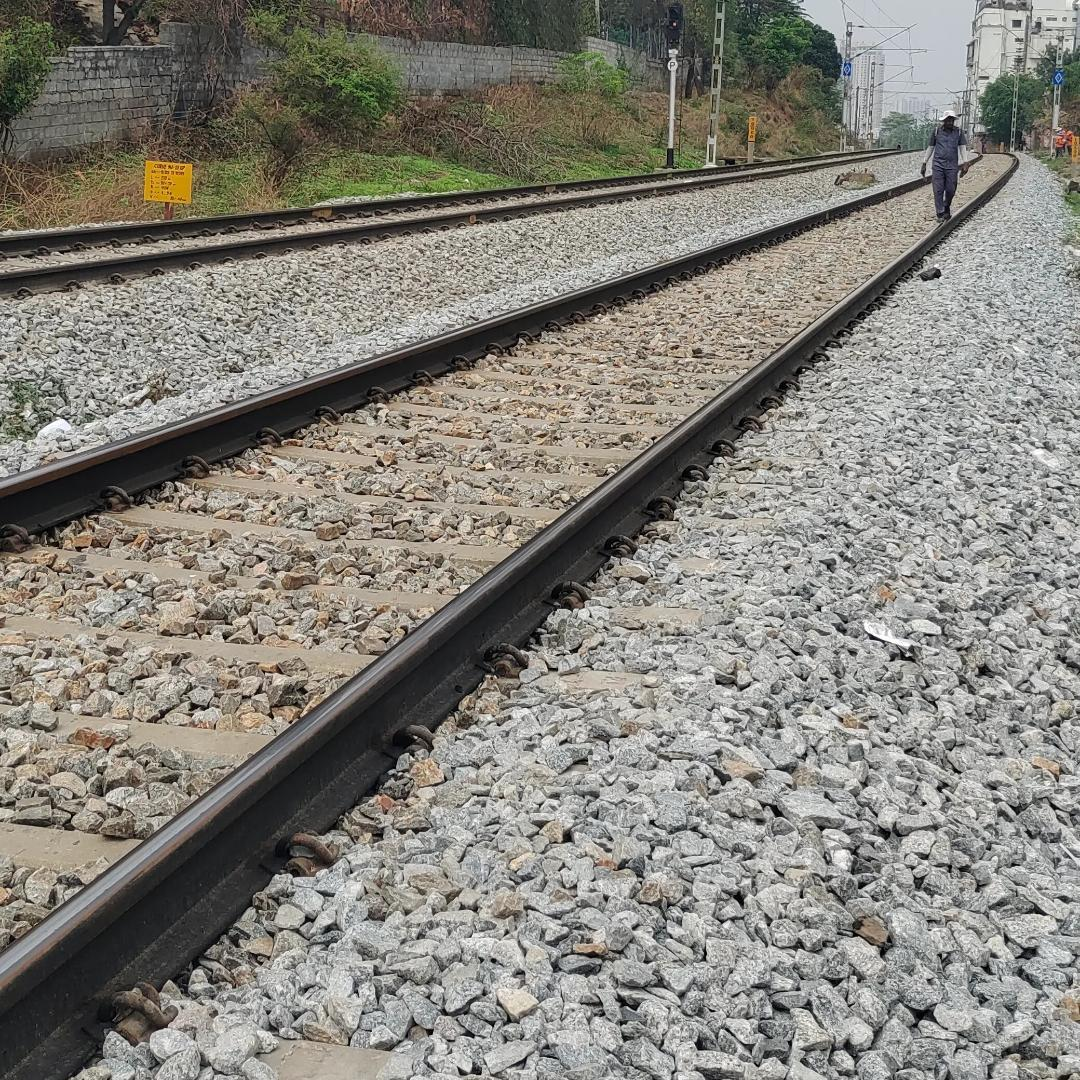standing: (912, 109, 978, 236)
track: (0, 142, 1037, 1080)
